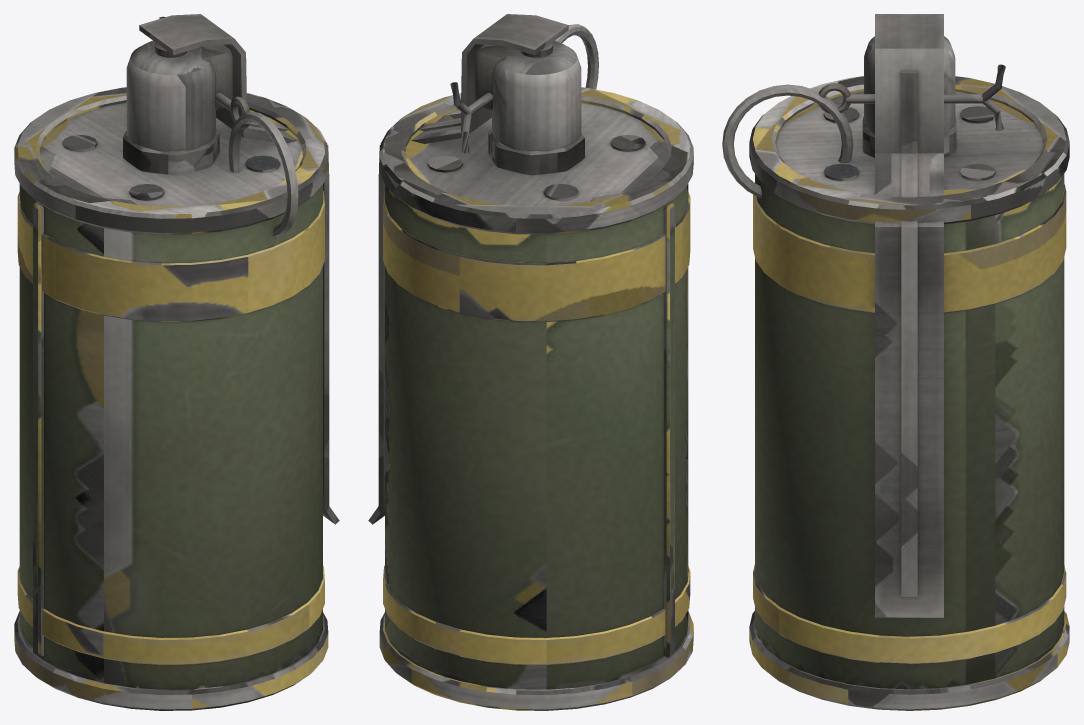
File: smoke_grenade.glb
3 views of the same model, side by side, from view 1: azimuth 30°, elevation 25°; view 2: azimuth 150°, elevation 25°; view 3: azimuth 270°, elevation 25° (orthographic).
Visible parts, largest first — view 1: body, band, rim_top, top_plate, band_low, fuze_body, rim_bottom, spoon, seam, fuze_neck, pull_ring, fuze_striker; view 2: body, band, rim_top, top_plate, band_low, fuze_body, rim_bottom, spoon, seam, fuze_neck, fuze_striker, pull_ring; view 3: body, spoon, band, rim_top, top_plate, band_low, spoon_rib, rim_bottom, pull_ring, fuze_body, fuze_neck, pin.
Part boxes in pixels (x1,y1,x2,y2): body: (19,184,322,689); band: (17,191,324,321); rim_top: (14,87,328,234); top_plate: (39,102,302,206); band_low: (17,565,324,664); fuze_body: (126,40,215,151); rim_bottom: (14,611,328,710); spoon: (139,14,339,524); seam: (33,202,43,657); fuze_neck: (123,129,219,175); pull_ring: (228,111,298,237); fuze_striker: (189,44,232,109); body: (385,184,688,689); band: (383,191,690,321); rim_top: (379,87,693,234); top_plate: (405,102,668,206); band_low: (383,565,690,664); fuze_body: (492,40,581,151); rim_bottom: (379,611,693,710); spoon: (368,14,568,524); seam: (664,202,674,657); fuze_neck: (488,129,584,175); fuze_striker: (475,44,515,109); pull_ring: (555,24,598,89); body: (755,174,1064,689); spoon: (875,14,943,617); band: (753,184,1066,313); rim_top: (749,76,1069,224); top_plate: (775,91,1043,195); band_low: (753,564,1066,664); spoon_rib: (901,71,917,596); rim_bottom: (749,611,1069,710); pull_ring: (722,84,853,198); fuze_body: (864,36,955,134); fuze_neck: (862,116,956,157); pin: (846,94,982,103).
Size of the model in its own units: 0.0667 by 0.136 by 0.0686.
Materials: 1 (1 with a texture image).
